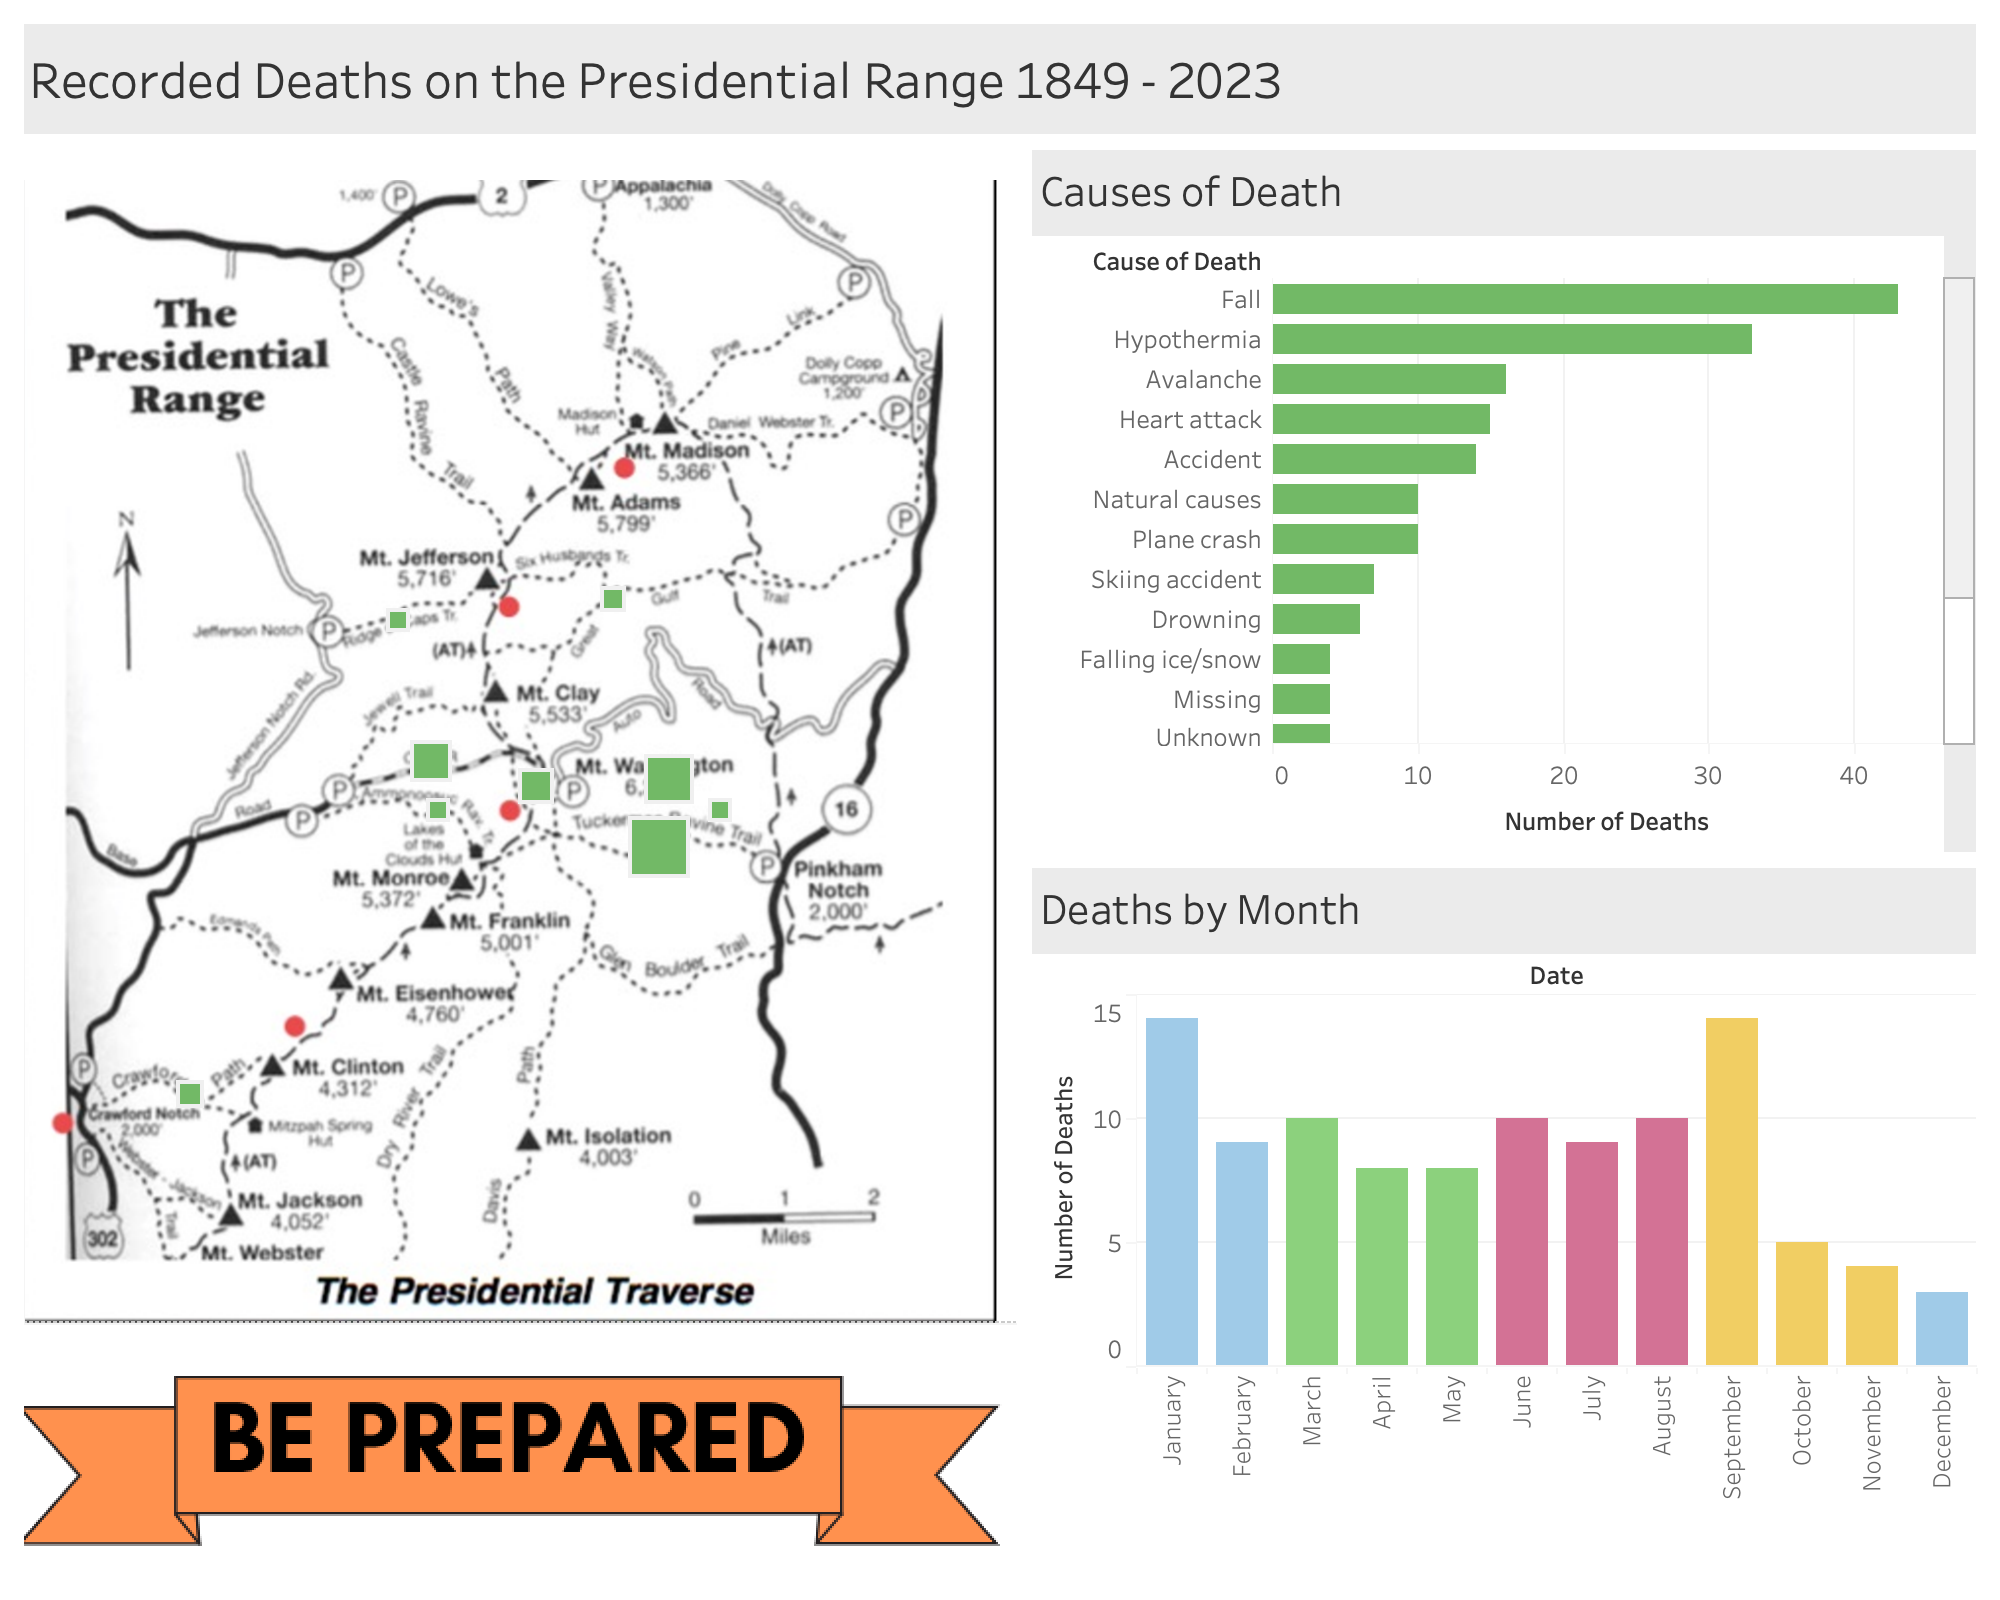

Layout of this report page (visuals, bound fields, positions):
{"tool":"tableau","page":{"name":"Dashboard","canvas":[1000,800],"ordinal":0},"visuals":[{"type":"title","box":[8,8,984,63]},{"type":"worksheet","title":"Map","mark":"Square","rows":["Y"],"cols":["X"],"box":[8,71,504,596]},{"type":"worksheet","title":"Cause of Death","mark":"Automatic","rows":["Cause of Death"],"cols":["Mt_Washington_Wiki_cleaned.csv_E0CD93ECBC3F4465BDC01E91A9C0C"],"box":[512,71,480,359]},{"type":"worksheet","title":"Month Deaths","mark":"Bar","rows":["Mt_Washington_Wiki_cleaned.csv_E0CD93ECBC3F4465BDC01E91A9C0C"],"cols":["Date"],"box":[512,430,480,337]},{"type":"image","param":"Image/Screen Shot 2023-12-10 at 12.58.57 PM.png","box":[8,667,504,125]}]}

Visuals, with their boxes in screenshot pixels (x1, y1, x2, y2), scaled from the page's 1000x800 canvas onto the 2000x1600 screenshot:
title: BBox(16, 16, 1984, 142)
"Map" worksheet (Square marks): BBox(16, 142, 1024, 1334)
"Cause of Death" worksheet: BBox(1024, 142, 1984, 860)
"Month Deaths" worksheet (Bar marks): BBox(1024, 860, 1984, 1534)
image: BBox(16, 1334, 1024, 1584)
